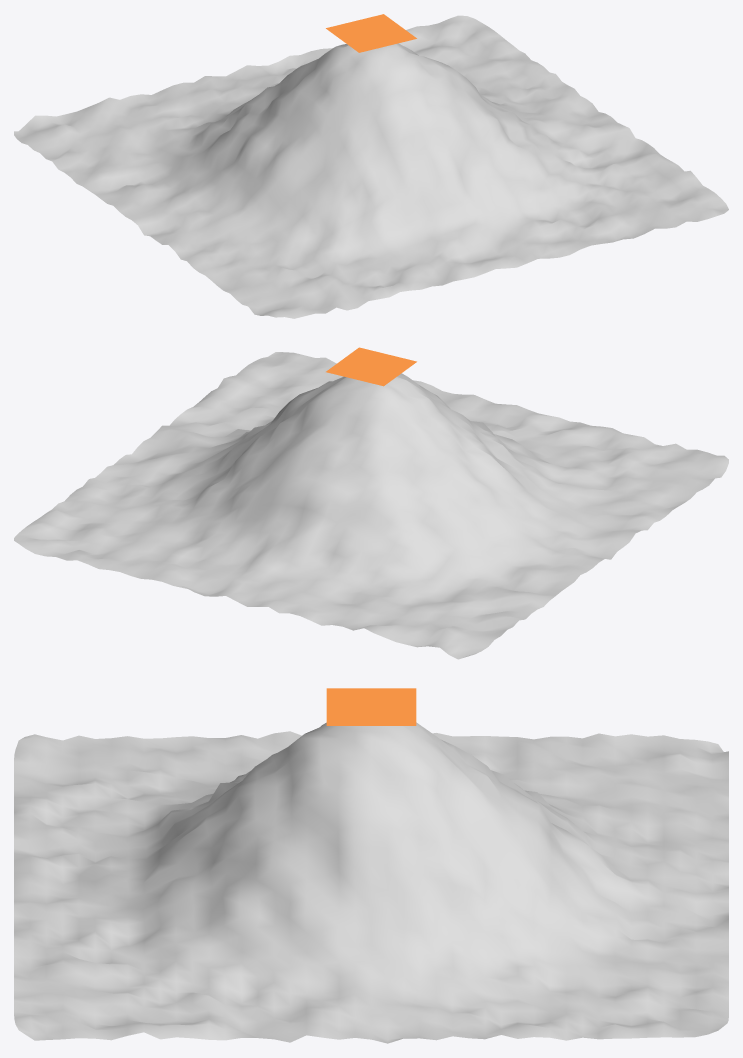
The picture shows the model from 3 angles, top to bottom: view 1: azimuth 30°, elevation 25°; view 2: azimuth 150°, elevation 25°; view 3: azimuth 270°, elevation 25°; orthographic projection. The views are drawn at different scales.
Bounding box in the file's own units: 20 × 5.82 × 20.
